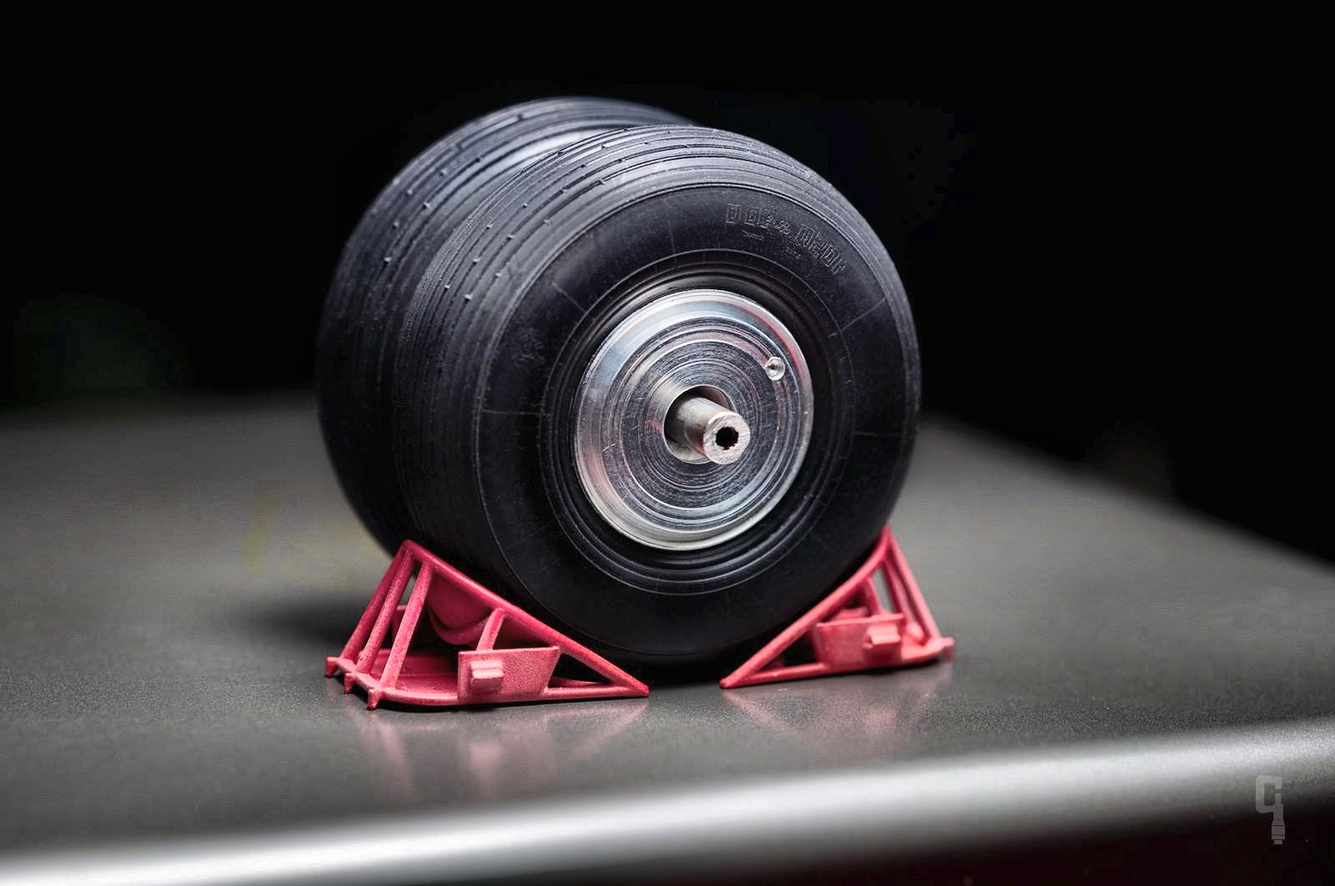chock: (327, 540, 650, 711), (713, 524, 955, 692)
wheel: (386, 123, 923, 693), (318, 98, 752, 642)
